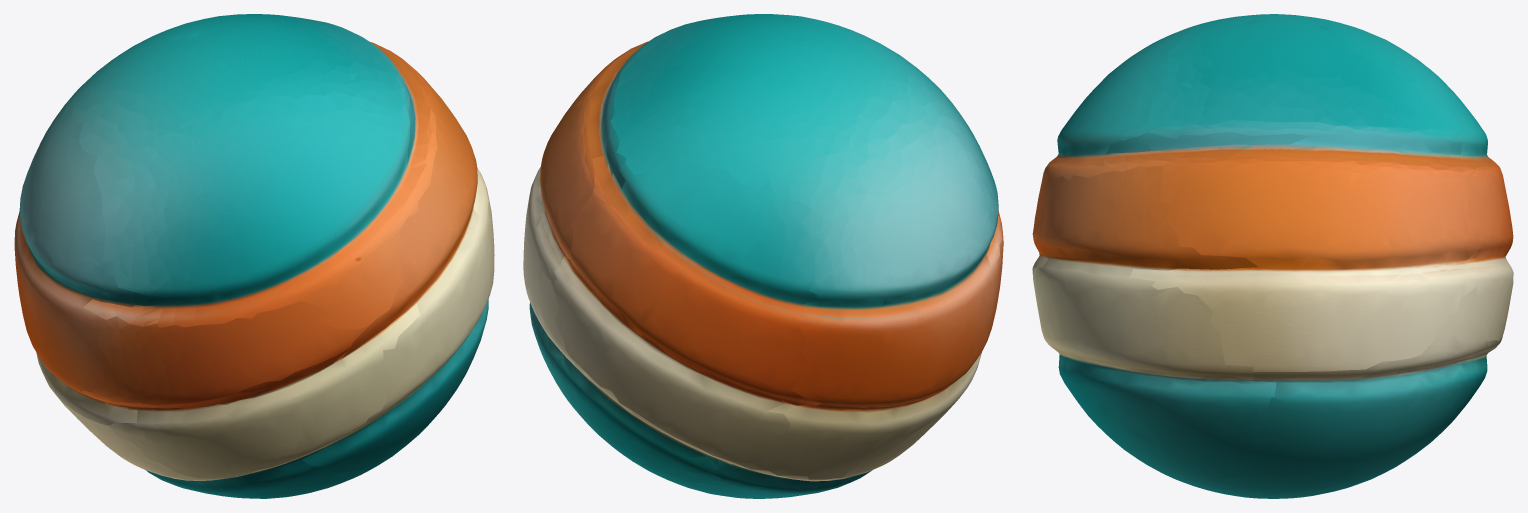
Rendered from PlaygroundBall.glb.
3 views of the same model, side by side, from view 1: azimuth 30°, elevation 25°; view 2: azimuth 150°, elevation 25°; view 3: azimuth 270°, elevation 25° (orthographic).
Visible parts, largest first — view 1: geometry_0; view 2: geometry_0; view 3: geometry_0.
Part boxes in pixels (bbox=[...]): geometry_0: bbox=[14, 14, 494, 498]; geometry_0: bbox=[523, 14, 1003, 498]; geometry_0: bbox=[1032, 14, 1513, 498].
Bounding box in the file's own units: 0.12 × 0.1201 × 0.1192.
1 material, 1 textured.
